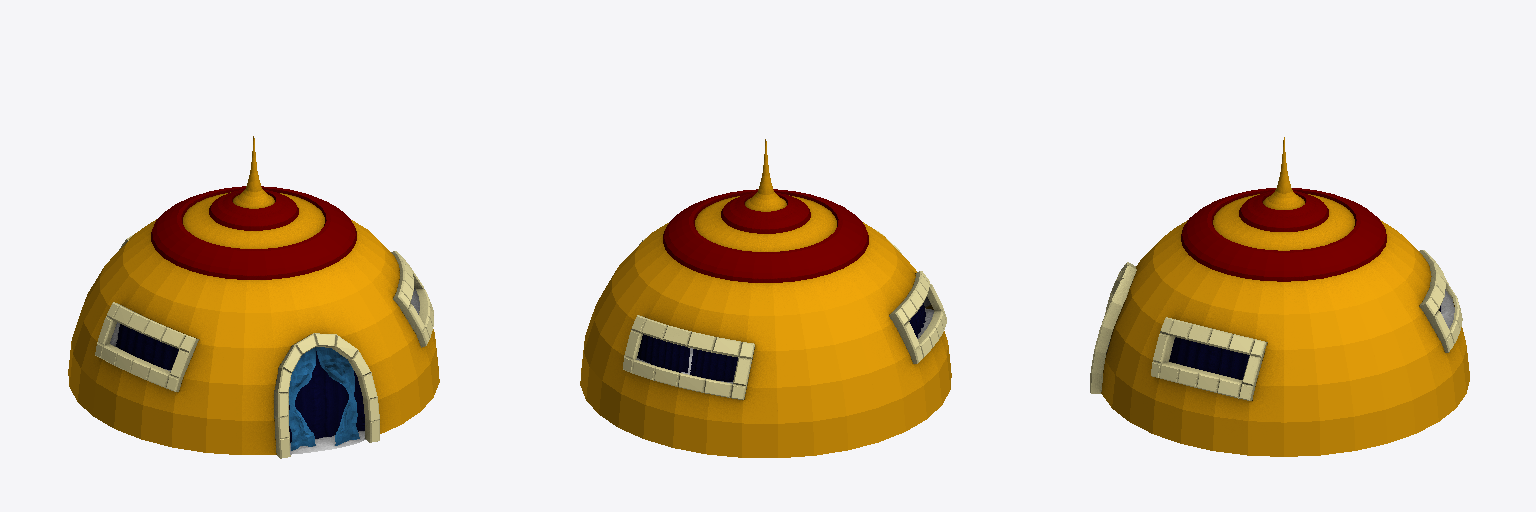
The picture shows the model from 3 angles: view 1: azimuth 30°, elevation 25°; view 2: azimuth 150°, elevation 25°; view 3: azimuth 270°, elevation 25°; orthographic projection.
Parts seen in each view (by area): view 1: Object001; view 2: Object001; view 3: Object001.
Part boxes in pixels (x1,y1,x2,y2): Object001: (68,136,439,458); Object001: (580,139,951,457); Object001: (1090,137,1469,456).
Bounding box in the file's own units: 86.62 × 64.06 × 88.53.
Materials: 1 (1 with a texture image).